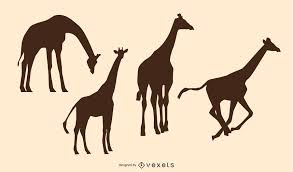Jirafa: (46, 11, 104, 80), (242, 23, 286, 91), (157, 8, 204, 61), (108, 44, 131, 76)
